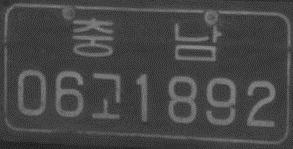0: (16, 68, 46, 116)
1: (129, 73, 159, 123)
2: (245, 78, 276, 128)
6: (54, 70, 84, 117)
8: (167, 75, 198, 123)
9: (204, 78, 237, 126)
고: (90, 72, 122, 120)
충남_D: (72, 16, 221, 61)
